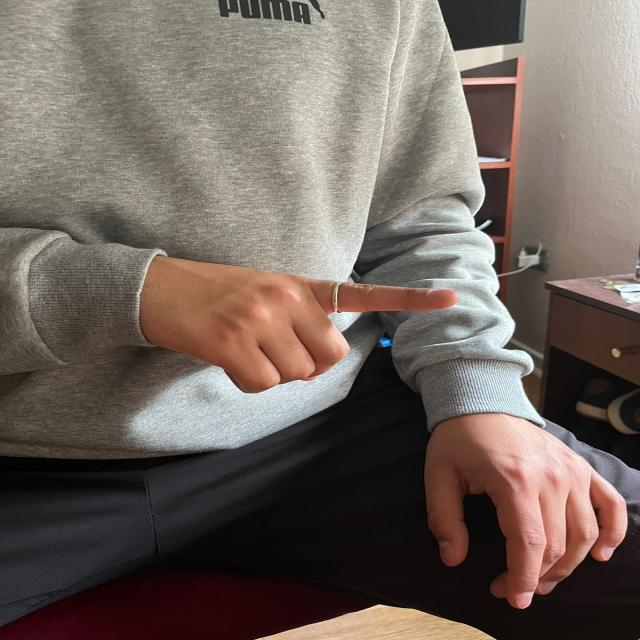S: (113, 241, 460, 398)
